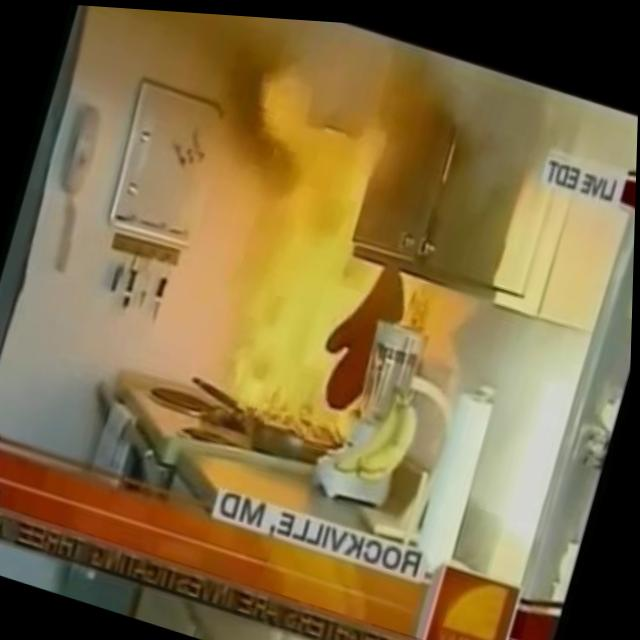fire: (218, 216, 383, 439)
